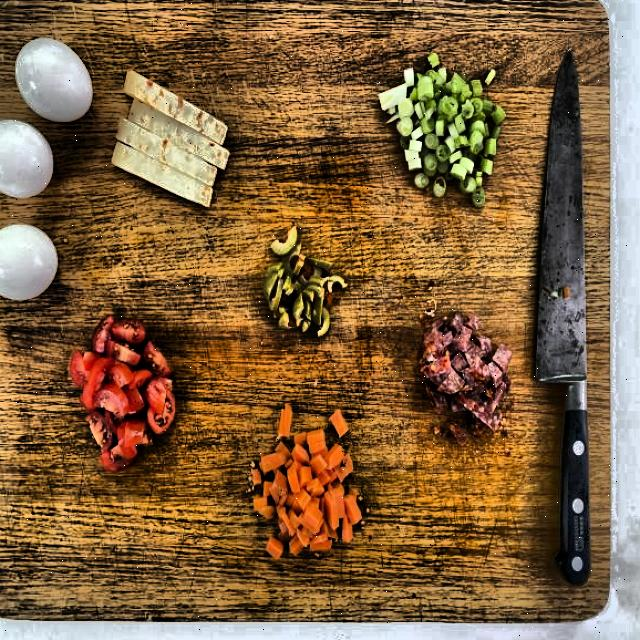knife: (529, 45, 594, 592)
